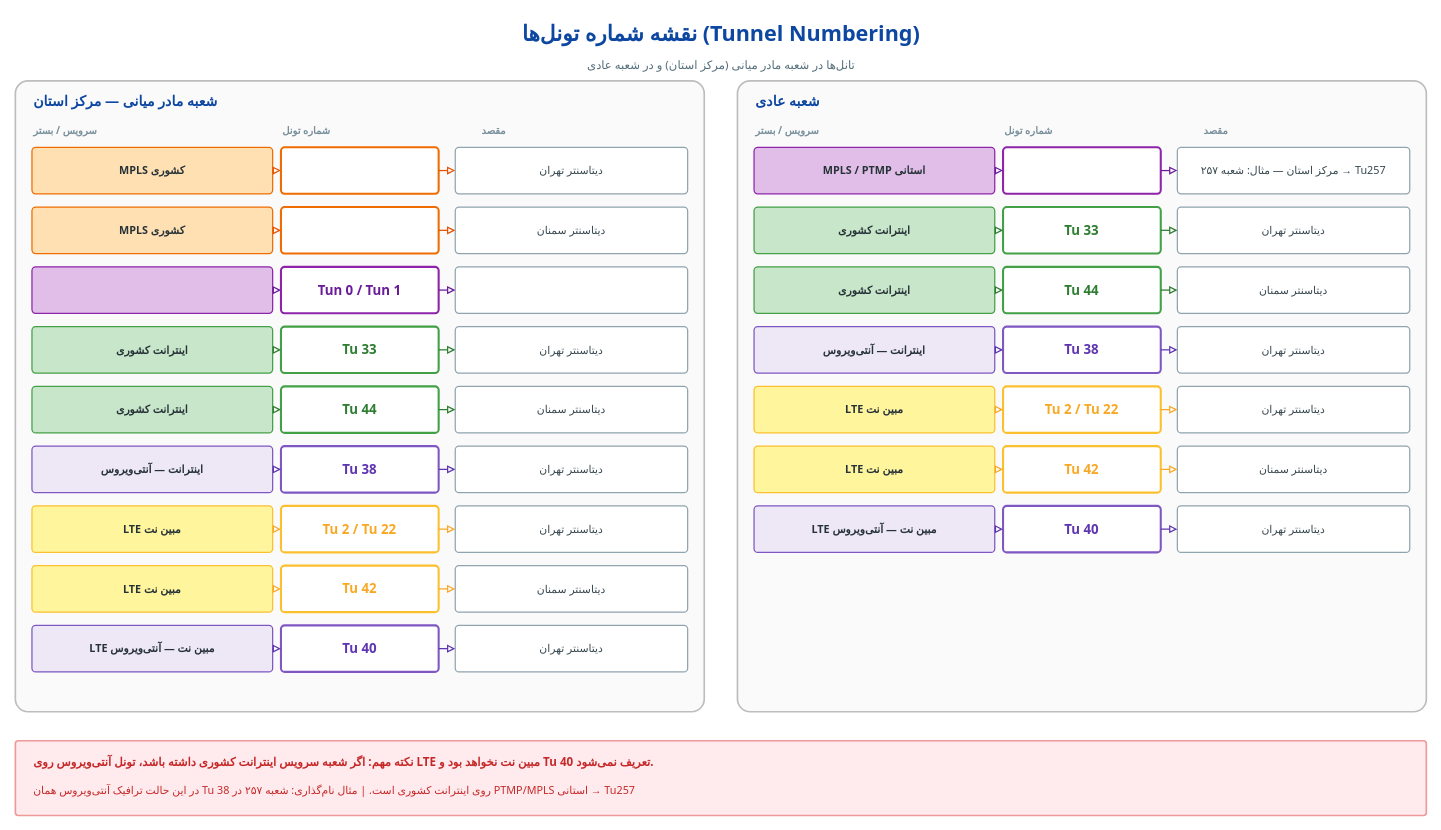
Image size: 1441x830. Some labels were removed from this diagram. Here are the shapes that lost their labels. From the top down, the centre of each, then its label:
At pixel 359 170: "Tun 3000".
At pixel 1081 170: "Tu * (نام شعبه)".
At pixel 359 230: "Tun 2000".
At pixel 152 290: "PTMP استانی → شعب زیرمجموعه".
At pixel 571 290: "شعبه زیرمجموعه".
